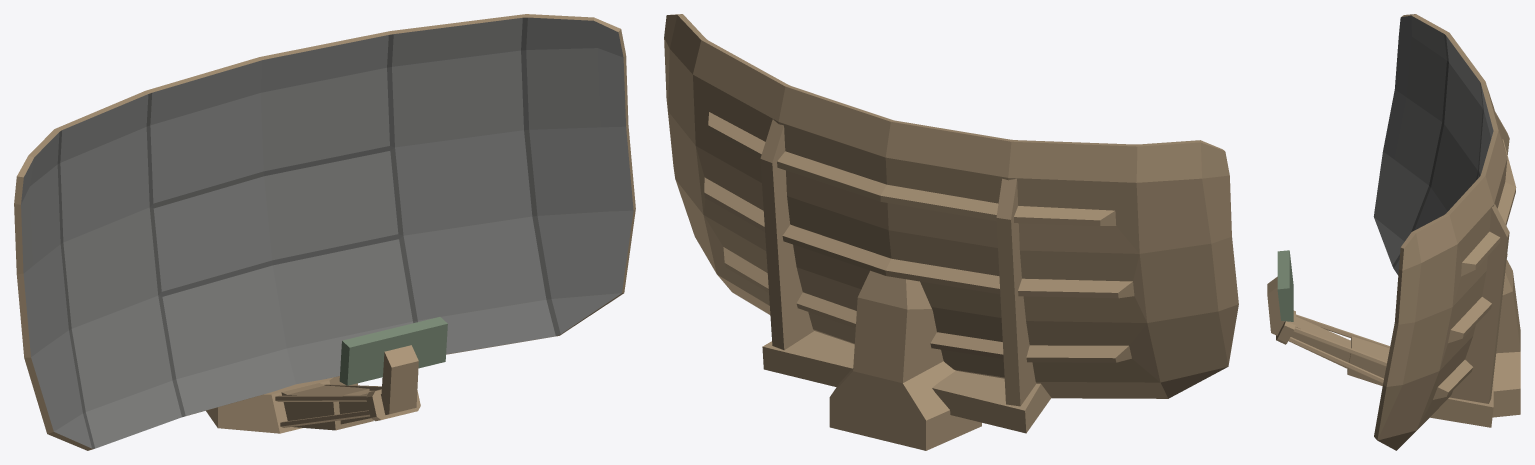
Rendered from SM_Prop_Satelite_Dish_02_Top.fbx.
3 renders of one model, left to right at view 1: azimuth 30°, elevation 25°; view 2: azimuth 150°, elevation 25°; view 3: azimuth 270°, elevation 25°, orthographic. The views are drawn at different scales.
Visible parts, largest first — view 1: SM_Prop_Satelite_Dish_02_Top; view 2: SM_Prop_Satelite_Dish_02_Top; view 3: SM_Prop_Satelite_Dish_02_Top.
Part boxes in pixels (x1=…): SM_Prop_Satelite_Dish_02_Top: x1=14, y1=14, x2=635, y2=450; SM_Prop_Satelite_Dish_02_Top: x1=664, y1=14, x2=1238, y2=450; SM_Prop_Satelite_Dish_02_Top: x1=1267, y1=14, x2=1520, y2=450.
Size of the model in its own units: 720 by 384 by 325.
